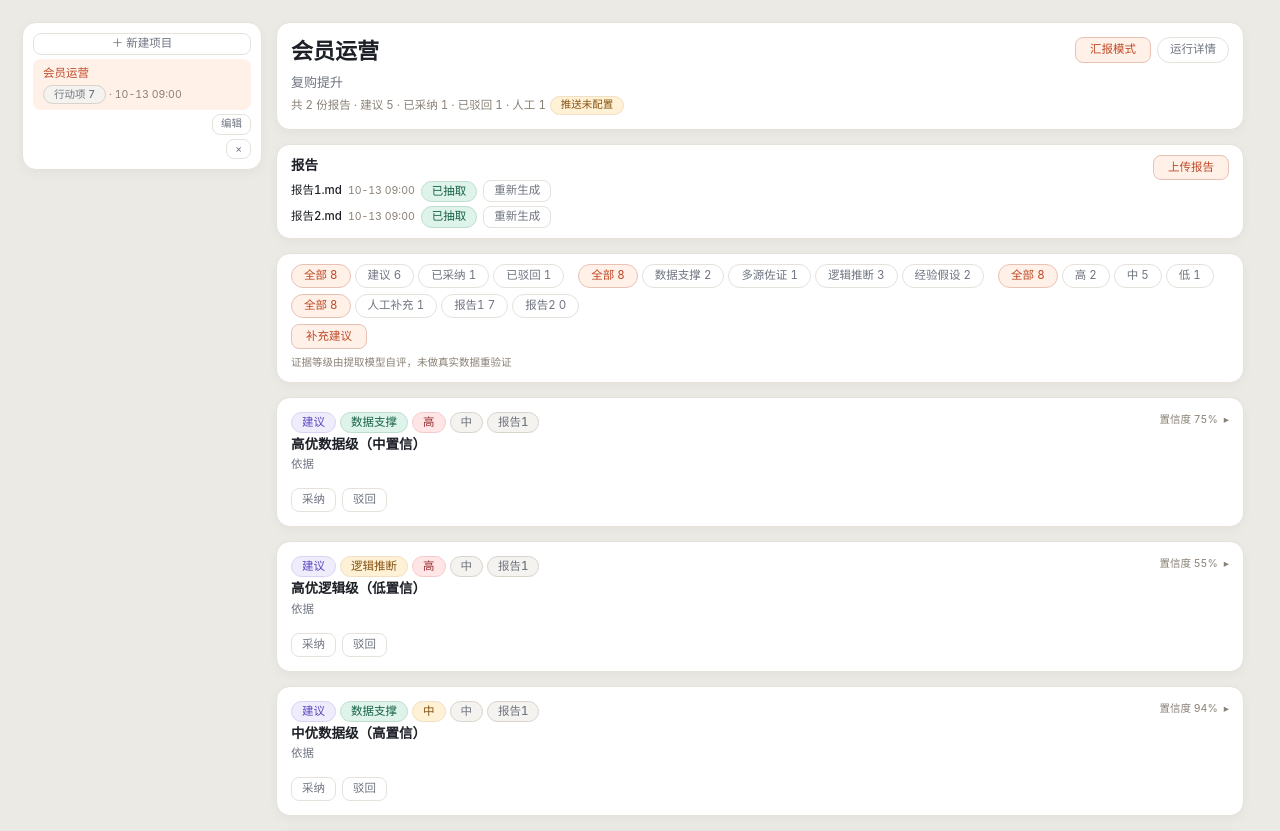
Scenario: S15 逐项页信息结构：页码+范围标签/标题/徽标行/等级 chip+置信度大数字/引用块/推导展开/预期效果/来源
The image size is (1280, 831).
Click the button "汇报模式".
click(1113, 50)  # box x1=1075 y1=37 x2=1151 y2=63
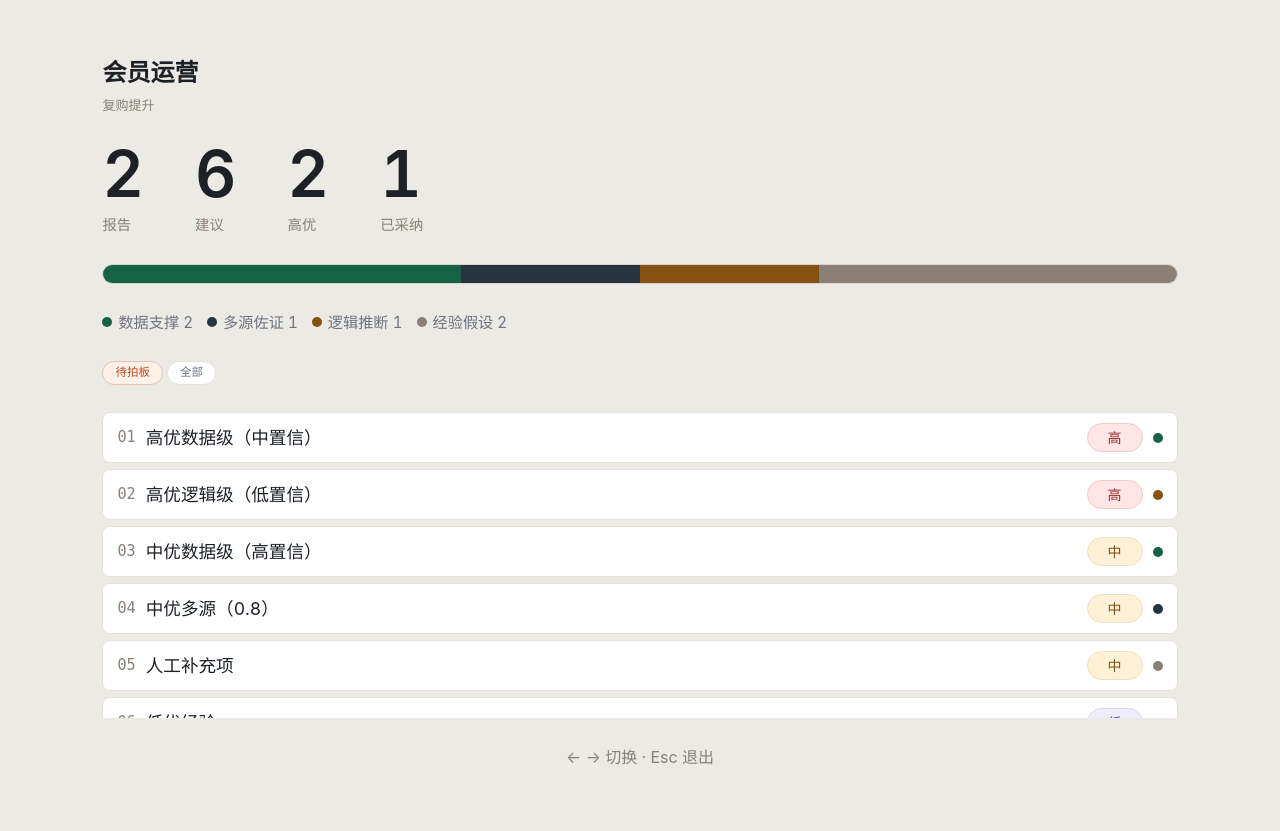
Click the button "01 高优数据级（中置信） 高".
click(234, 437)  # box x1=102 y1=412 x2=1178 y2=463
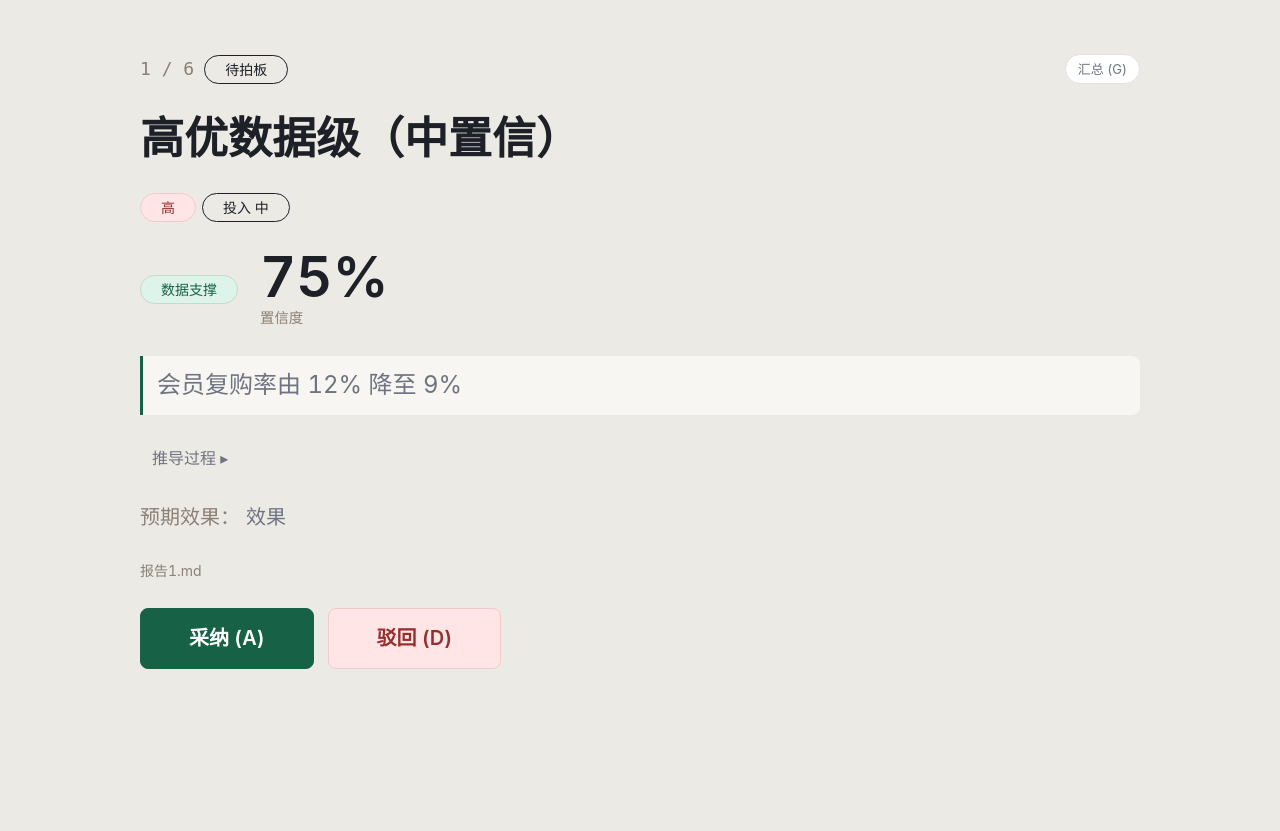
Expected: the heading "高优数据级（中置信）" is shown, x1=140 y1=111 x2=580 y2=165
Expected: the text "待拍板" is shown, x1=204 y1=55 x2=288 y2=84
Expected: the text "1 / 6" is shown, x1=140 y1=55 x2=194 y2=83
Click the button "推导过程 ▸".
click(190, 458)  # box x1=140 y1=442 x2=240 y2=475
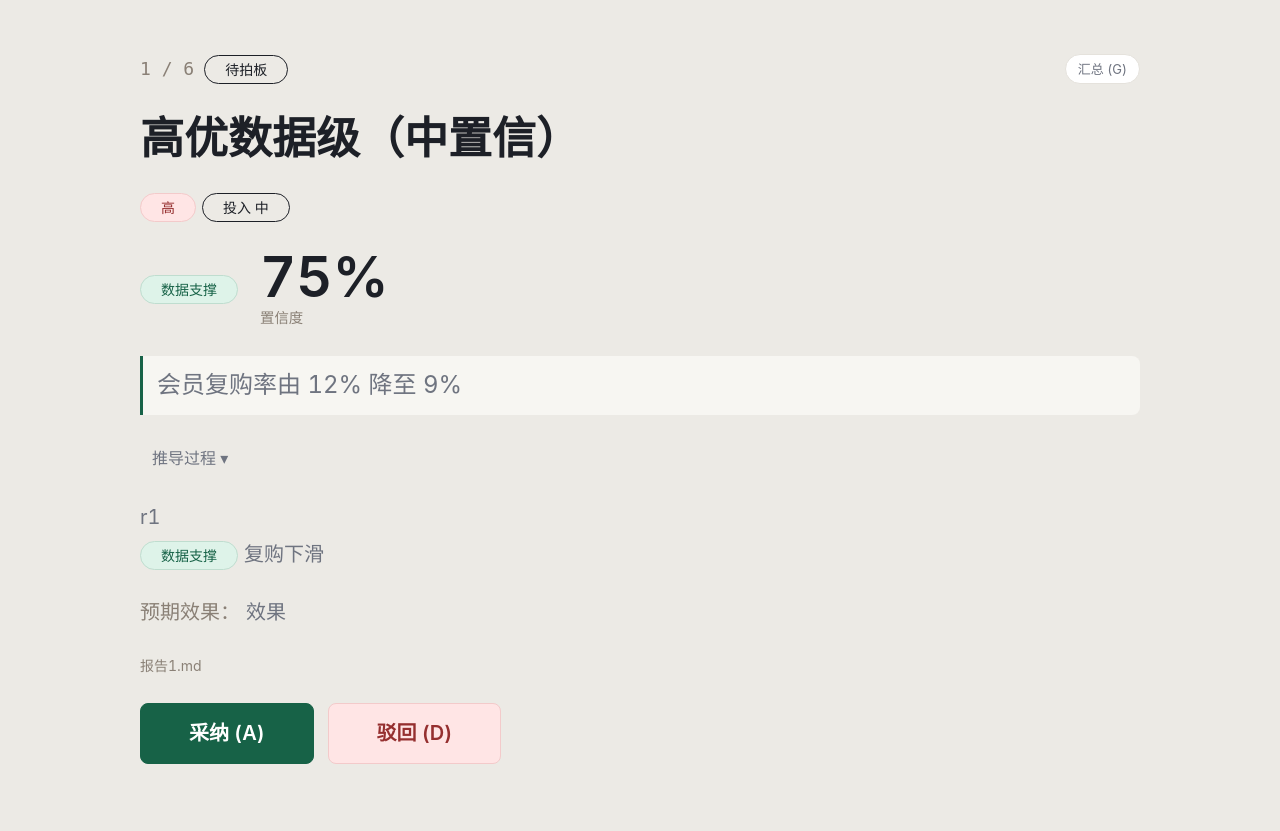
Expected: the text "r1" is shown, x1=140 y1=505 x2=160 y2=529
